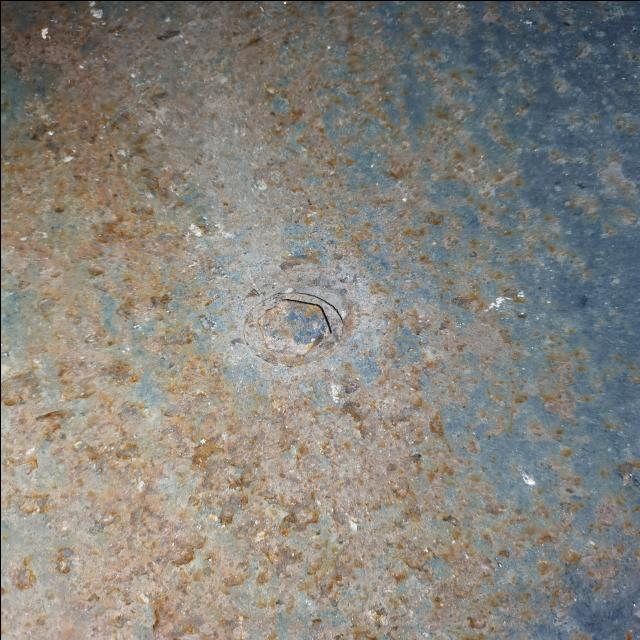Rusty bolt: (258, 301, 332, 355)
